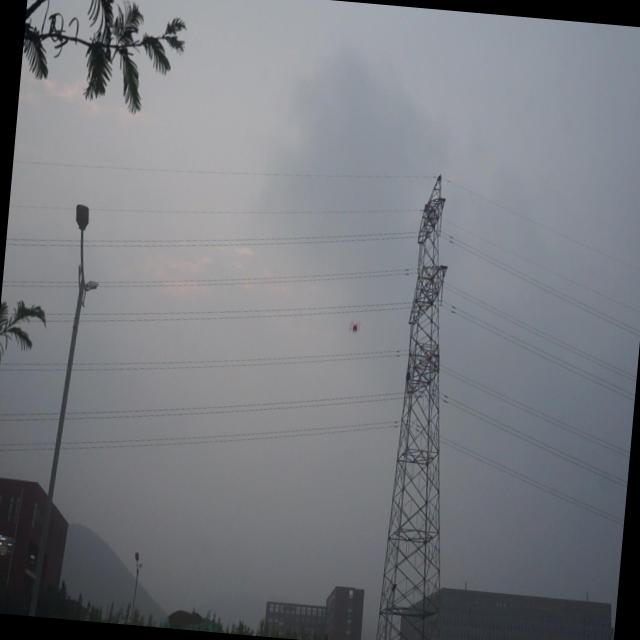drone: (347, 315, 362, 338)
